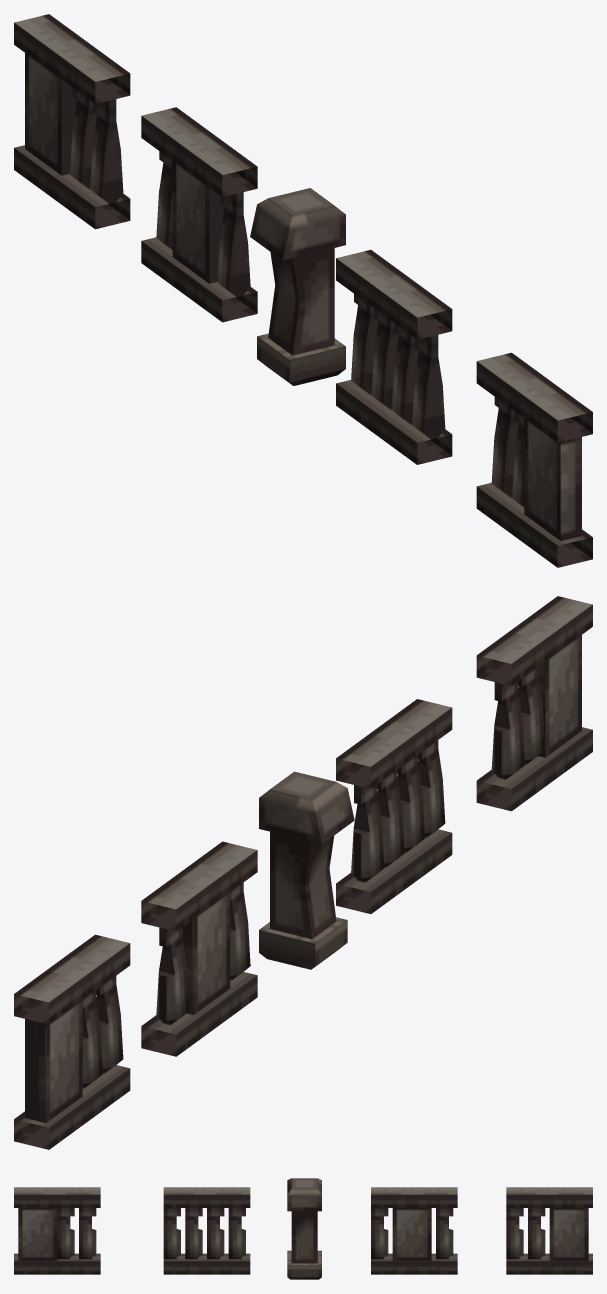
The model's file is EnvMdrMD_City_A_Fence_B_End_A.FBX.
3 views of the same model, one above another, from view 1: azimuth 30°, elevation 25°; view 2: azimuth 150°, elevation 25°; view 3: azimuth 270°, elevation 25° (orthographic). The views are drawn at different scales.
Parts seen in each view (by area): view 1: EnvMdrMD_City_A_Fence_B_Start_A, EnvMdrMD_City_A_Fence_B_Loop_A, EnvMdrMD_City_A_Fence_B_Loop_B, EnvMdrMD_City_A_Fence_B_End_A, EnvMdrMD_City_A_Fence_B_Post_A; view 2: EnvMdrMD_City_A_Fence_B_Start_A, EnvMdrMD_City_A_Fence_B_Loop_B, EnvMdrMD_City_A_Fence_B_Loop_A, EnvMdrMD_City_A_Fence_B_End_A, EnvMdrMD_City_A_Fence_B_Post_A; view 3: EnvMdrMD_City_A_Fence_B_Start_A, EnvMdrMD_City_A_Fence_B_Loop_B, EnvMdrMD_City_A_Fence_B_End_A, EnvMdrMD_City_A_Fence_B_Loop_A, EnvMdrMD_City_A_Fence_B_Post_A.
Part boxes in pixels (box(x1,y1,x2,y2)): EnvMdrMD_City_A_Fence_B_Start_A: box(14, 14, 130, 229); EnvMdrMD_City_A_Fence_B_Loop_A: box(336, 250, 452, 464); EnvMdrMD_City_A_Fence_B_Loop_B: box(141, 107, 257, 322); EnvMdrMD_City_A_Fence_B_End_A: box(476, 352, 592, 567); EnvMdrMD_City_A_Fence_B_Post_A: box(250, 188, 345, 385); EnvMdrMD_City_A_Fence_B_Start_A: box(14, 934, 130, 1149); EnvMdrMD_City_A_Fence_B_Loop_B: box(141, 841, 257, 1056); EnvMdrMD_City_A_Fence_B_Loop_A: box(336, 699, 452, 913); EnvMdrMD_City_A_Fence_B_End_A: box(476, 596, 592, 811); EnvMdrMD_City_A_Fence_B_Post_A: box(259, 771, 354, 969); EnvMdrMD_City_A_Fence_B_Start_A: box(506, 1187, 592, 1274); EnvMdrMD_City_A_Fence_B_Loop_B: box(371, 1187, 457, 1274); EnvMdrMD_City_A_Fence_B_End_A: box(14, 1187, 100, 1274); EnvMdrMD_City_A_Fence_B_Loop_A: box(163, 1187, 250, 1274); EnvMdrMD_City_A_Fence_B_Post_A: box(287, 1178, 321, 1279).
Size of the model in its own units: 45 by 115 by 669.
Materials: 1 (1 with a texture image).
